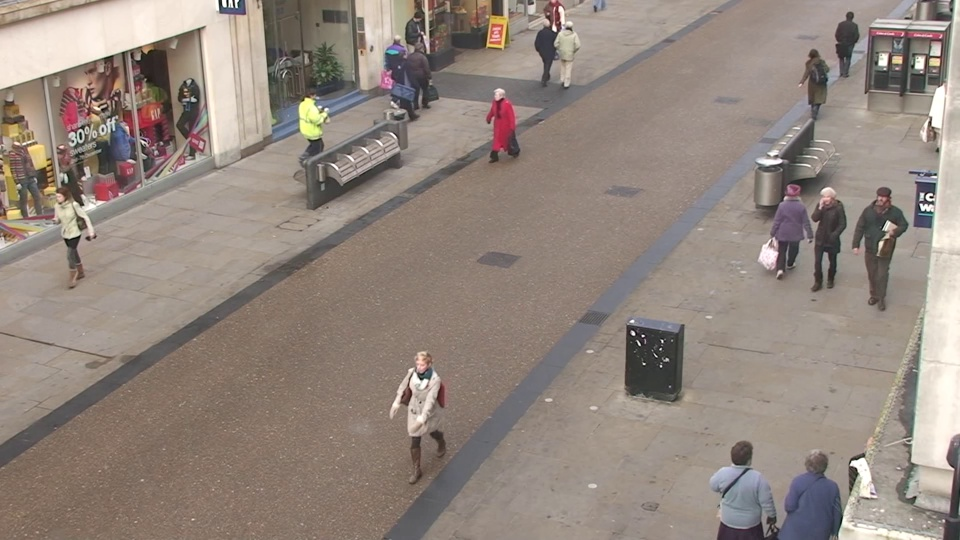pedestrian: (399, 344, 452, 497), (707, 428, 769, 540), (780, 436, 844, 540), (43, 182, 95, 293), (855, 183, 902, 298), (802, 183, 846, 297), (769, 179, 810, 292), (296, 83, 328, 168), (486, 85, 516, 172), (795, 46, 827, 124), (831, 9, 862, 80), (390, 46, 418, 122), (405, 39, 432, 113), (383, 31, 410, 103), (534, 16, 558, 84), (558, 18, 582, 86), (407, 10, 432, 75)
